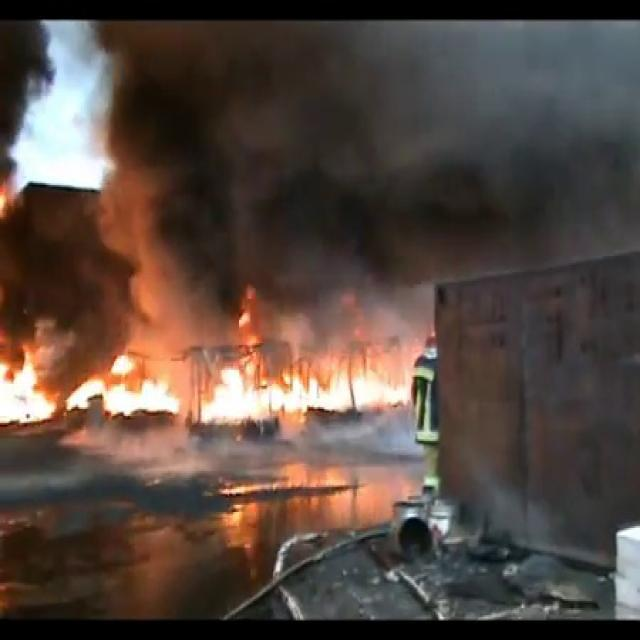Fire: (0, 326, 427, 424)
Smoke: (31, 19, 640, 348)
